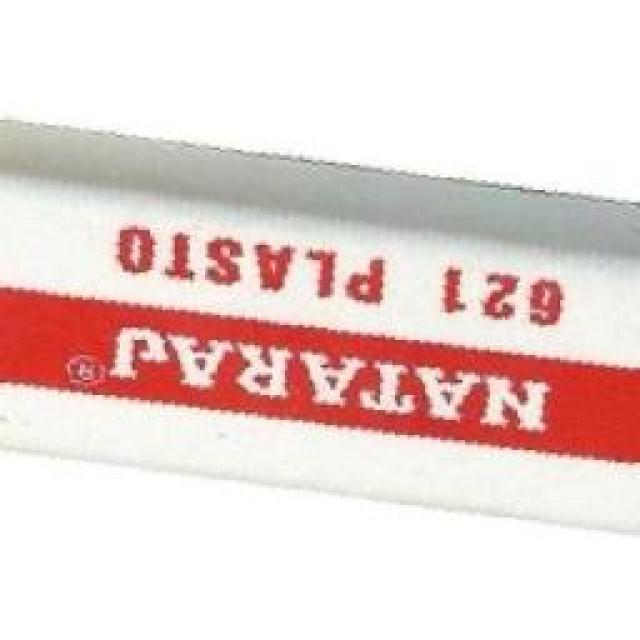Silgi: (0, 117, 640, 538)
